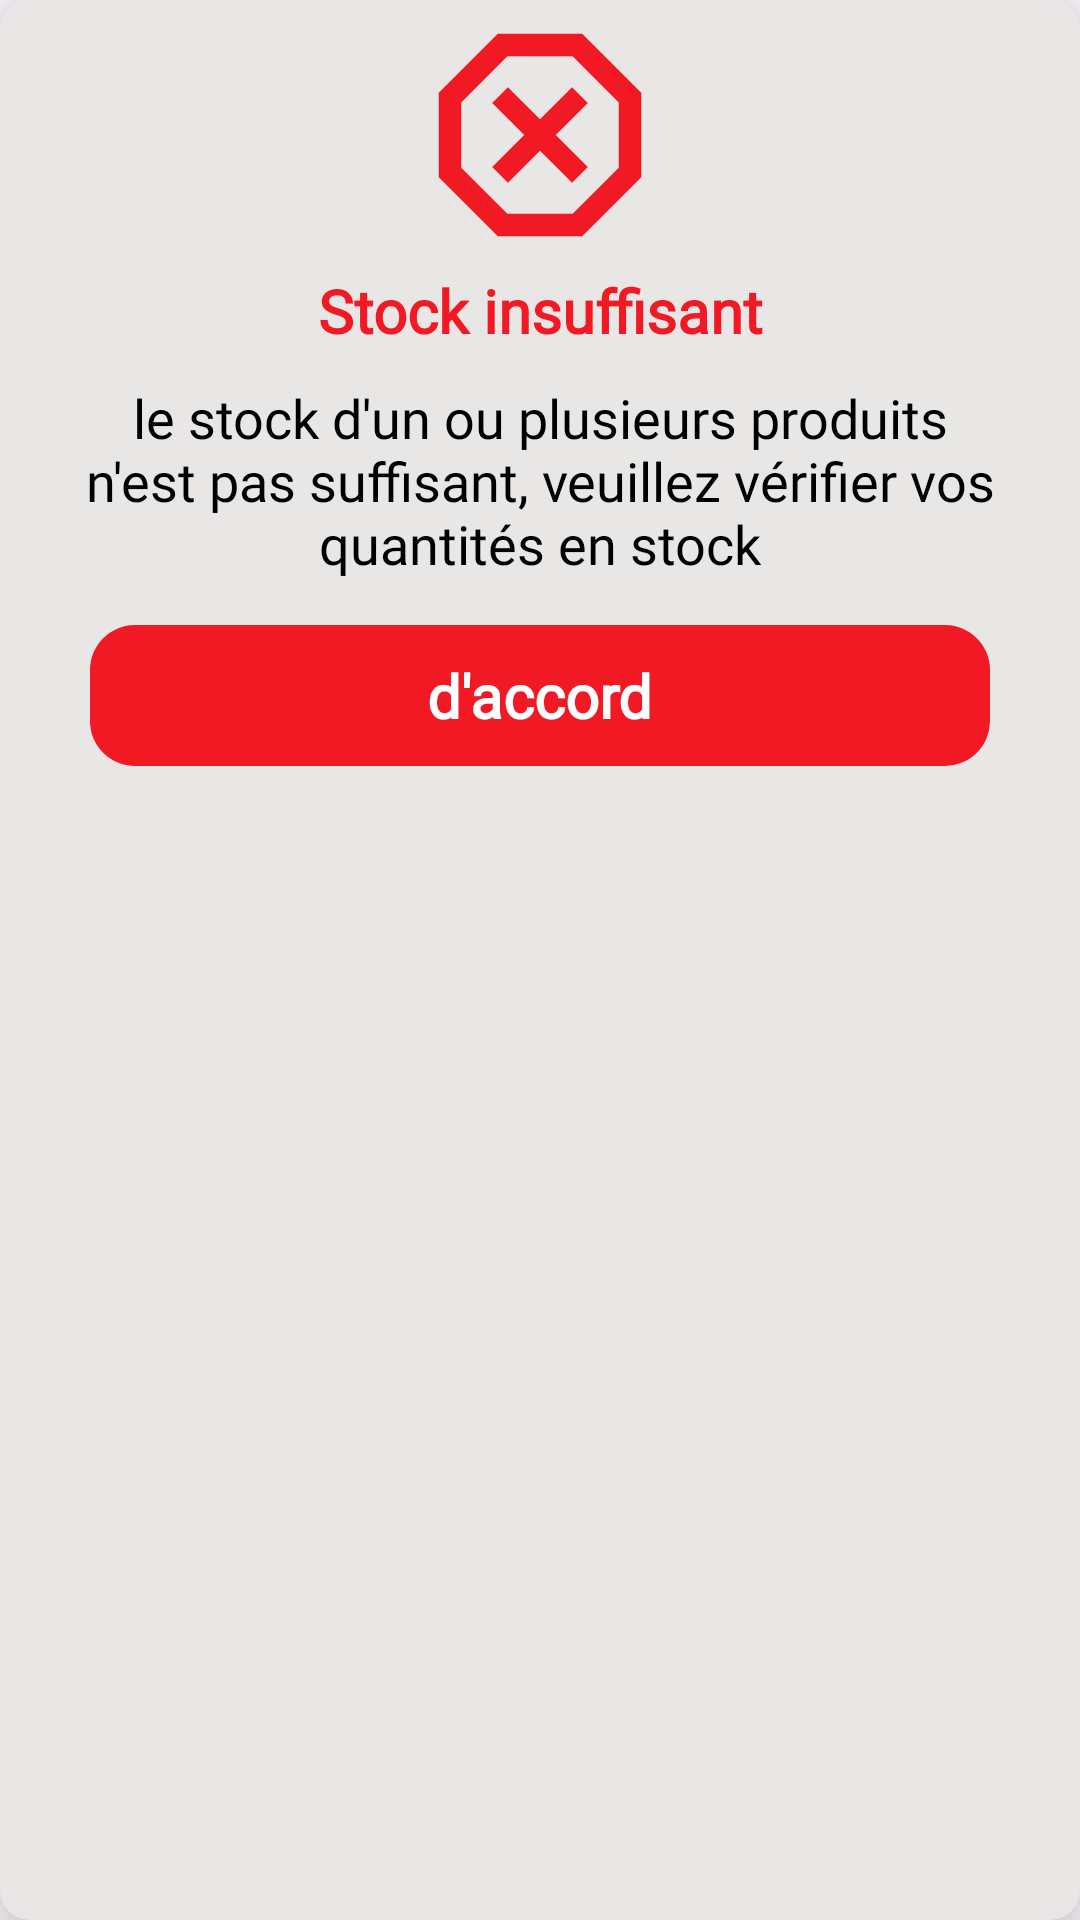

Locate icon controls on the screen. Image size 1080w x 1920h, boxes as [x1,y1,x2,y2].
danger: [438,33,642,237]
